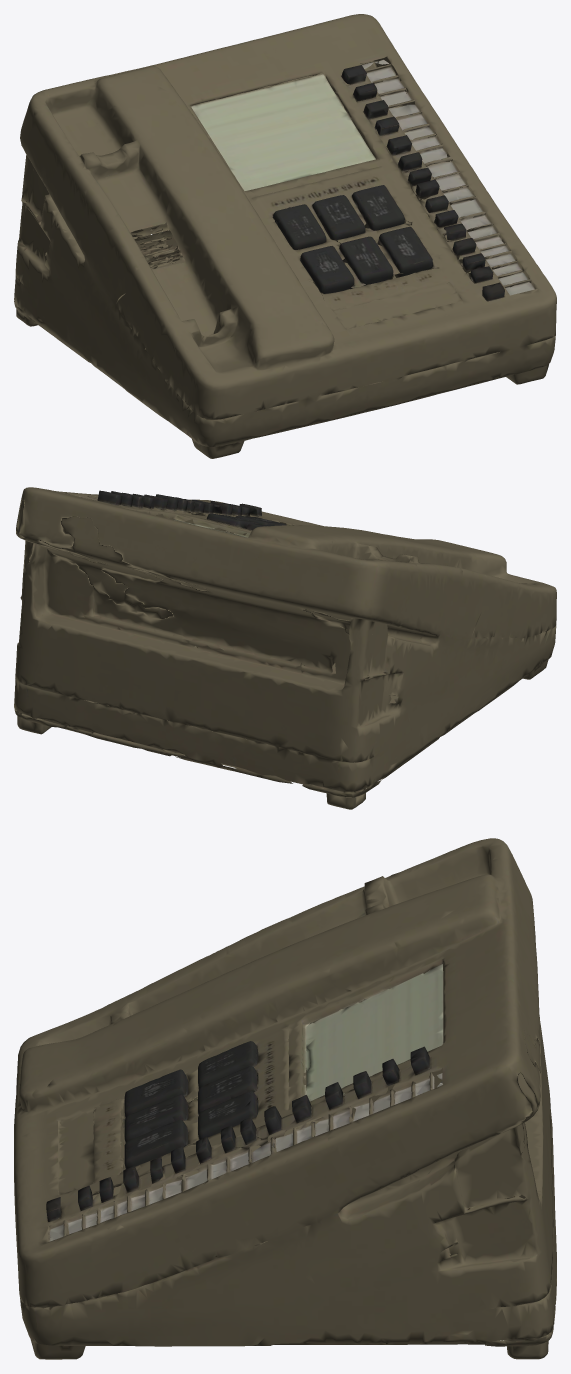
Rendered from phone-base.glb.
3 renders of one model, top to bottom at view 1: azimuth 30°, elevation 25°; view 2: azimuth 150°, elevation 25°; view 3: azimuth 270°, elevation 25°, orthographic. The views are drawn at different scales.
Visible parts, largest first — view 1: geometry_0; view 2: geometry_0; view 3: geometry_0.
Boxes of the visible parts, bbox=[...] form: geometry_0: bbox=[14, 14, 556, 458]; geometry_0: bbox=[14, 487, 556, 809]; geometry_0: bbox=[14, 838, 556, 1359].
Size of the model in its own units: 0.9935 by 0.638 by 1.
Materials: 1 (1 with a texture image).
